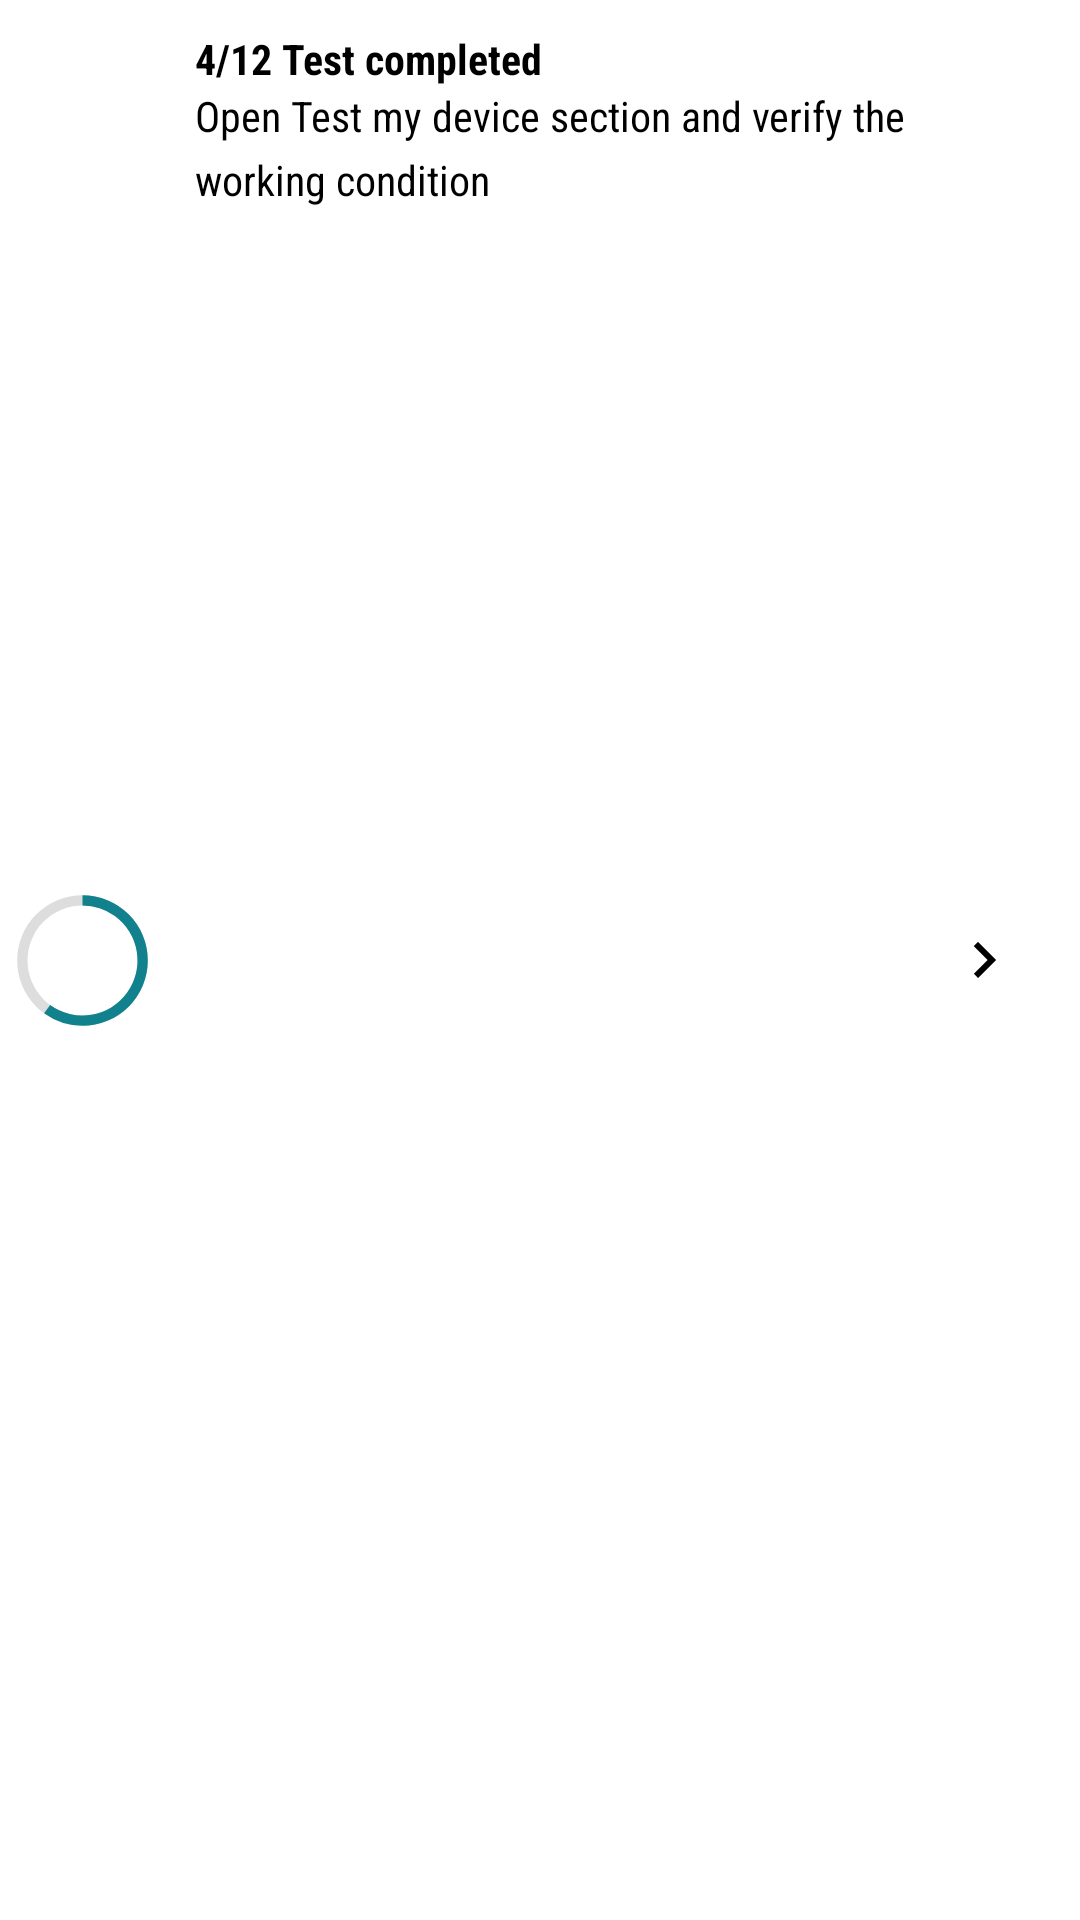

Locate icon controls on the screen. Image size 1080px x 1920px, boxes as rect(x1, y1, x2, y2).
right open: rect(974, 942, 996, 978)
